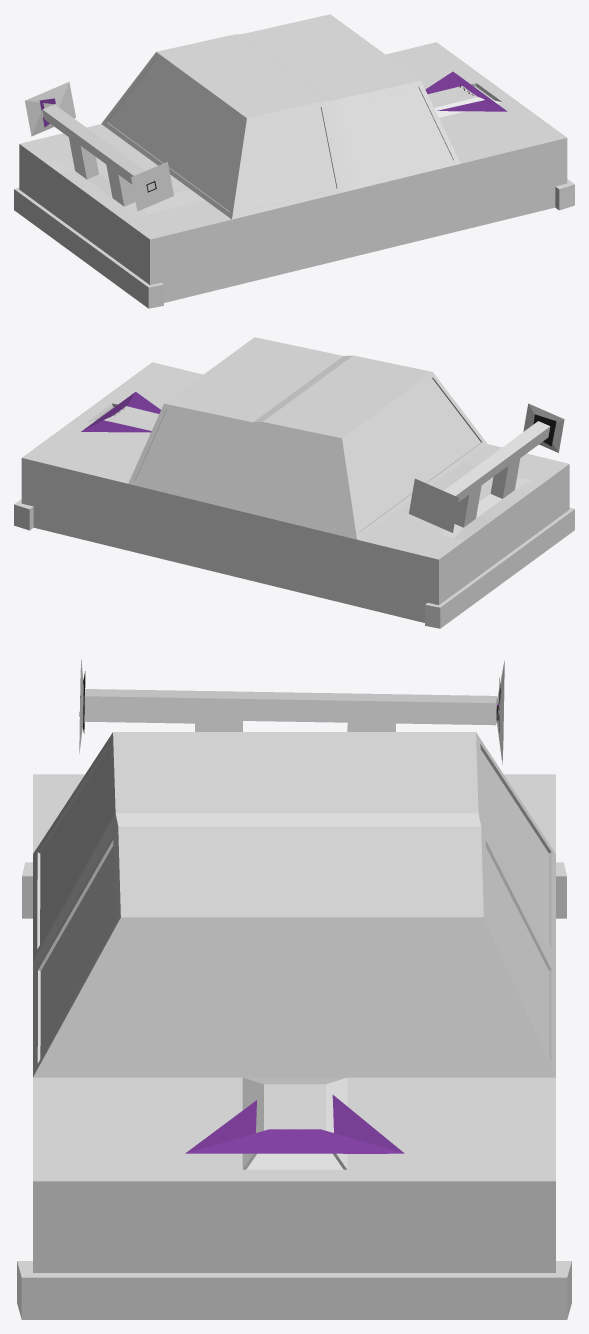
The model's file is Da Whip Completed.fbx.
3 renders of one model, top to bottom at view 1: azimuth 30°, elevation 25°; view 2: azimuth 150°, elevation 25°; view 3: azimuth 270°, elevation 25°, orthographic. The views are drawn at different scales.
Parts seen in each view (by area): view 1: Cube; view 2: Cube; view 3: Cube.
Part boxes in pixels (bbox=[...]): Cube: bbox=[14, 14, 574, 308]; Cube: bbox=[14, 337, 574, 628]; Cube: bbox=[17, 659, 571, 1319].
Size of the model in its own units: 491 by 158 by 275.
